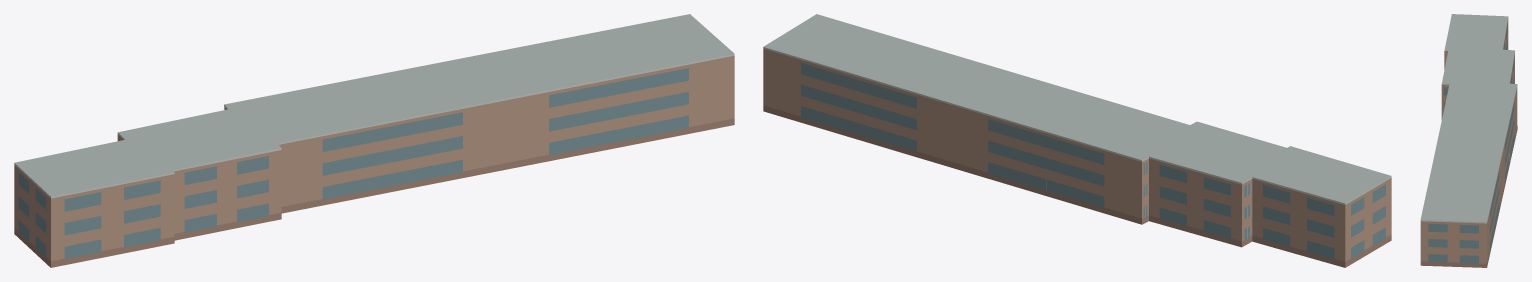
The model's file is survey-upis-32965205.glb.
3 views of the same model, side by side, from view 1: azimuth 30°, elevation 25°; view 2: azimuth 150°, elevation 25°; view 3: azimuth 270°, elevation 25° (orthographic). The views are drawn at different scales.
Parts seen in each view (by area): view 1: survey-upis-32965205.tmp; view 2: survey-upis-32965205.tmp; view 3: survey-upis-32965205.tmp.
Part boxes in pixels (<box>): survey-upis-32965205.tmp: <box>14,14,734,267</box>; survey-upis-32965205.tmp: <box>763,14,1391,267</box>; survey-upis-32965205.tmp: <box>1420,14,1517,267</box>.
Bounding box in the file's own units: 89.66 × 9.15 × 17.65.
